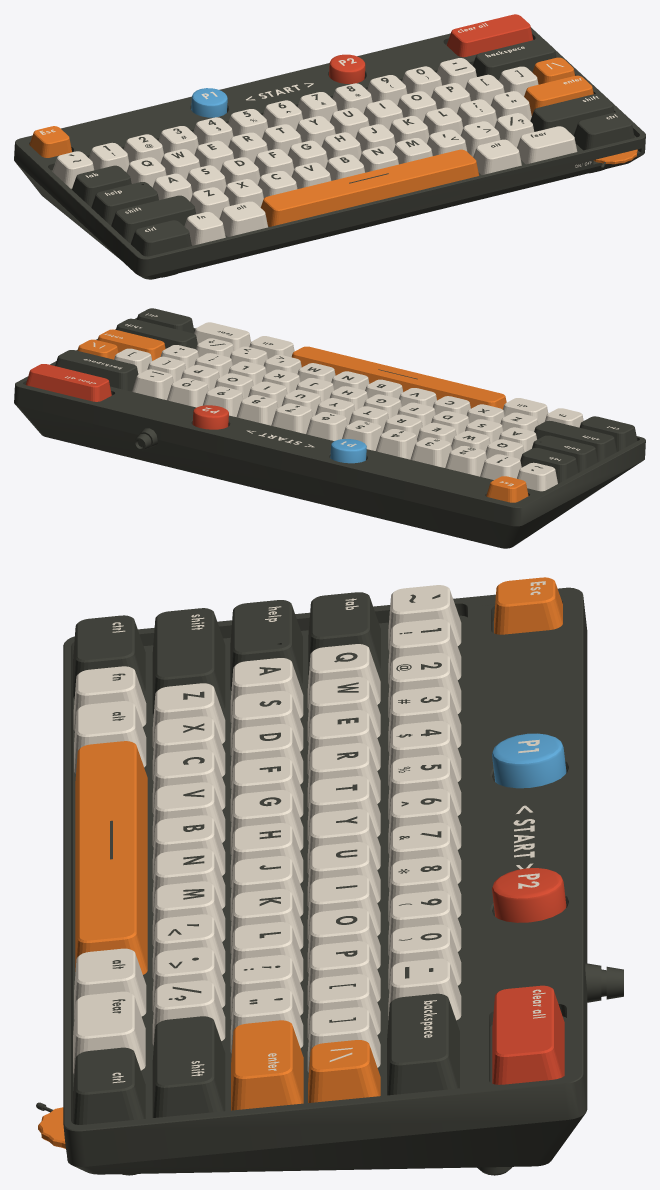
The model's file is Keyboard Final.fbx.
The picture shows the model from 3 angles, top to bottom: view 1: azimuth 30°, elevation 25°; view 2: azimuth 150°, elevation 25°; view 3: azimuth 270°, elevation 25°; orthographic projection. The views are drawn at different scales.
Visible parts, largest first — view 1: Cube.153, Cube.003, Cube.156, Cube.004, Cube.010, Cube.012, Cube.020, Cube.018, Cube.016, Cube.005, Cube.011, Cube.006 (+52 smaller); view 2: Cube.153, Cube.003, Cube.156, Cube.012, Cube.004, Cube.010, Cube.005, Cube.006, Cube.011, Cube.016, Cube.018, Cube.053 (+52 smaller); view 3: Cube.153, Cube.001, Cube.003, Cube.010, Cube.012, Cube.156, Cube.011, Cube.004, Cube.020, Cube.005, Cube.018, Cube.013 (+54 smaller).
Boxes of the visible parts, x1,y1,x2,y2 form: Cube.153: (14,27,645,279); Cube.003: (260,149,479,226); Cube.156: (446,14,533,57); Cube.004: (111,195,195,243); Cube.010: (530,93,614,135); Cube.012: (472,39,556,80); Cube.020: (573,112,634,150); Cube.018: (517,126,577,164); Cube.016: (131,220,191,256); Cube.005: (91,182,158,225); Cube.011: (524,75,593,115); Cube.006: (72,165,131,207); Cube.153: (14,318,645,548); Cube.003: (291,346,506,409); Cube.156: (25,364,111,401); Cube.012: (55,350,138,391); Cube.004: (534,420,616,461); Cube.010: (116,318,197,349); Cube.005: (532,435,597,472); Cube.006: (520,448,578,483); Cube.011: (97,329,165,360); Cube.016: (579,416,637,451); Cube.018: (194,322,250,350); Cube.053: (271,403,312,433); Cube.153: (63,587,623,1175); Cube.001: (73,615,467,1118); Cube.003: (75,741,147,974); Cube.010: (152,1016,225,1117); Cube.012: (387,993,459,1095); Cube.156: (492,985,564,1084); Cube.011: (231,1020,303,1110); Cube.004: (152,608,225,715); Cube.020: (73,1047,145,1124); Cube.005: (230,600,302,690); Cube.018: (73,991,145,1074); Cube.013: (308,1040,380,1102).
Bounding box in the file's own units: 931 × 1859 × 249.
